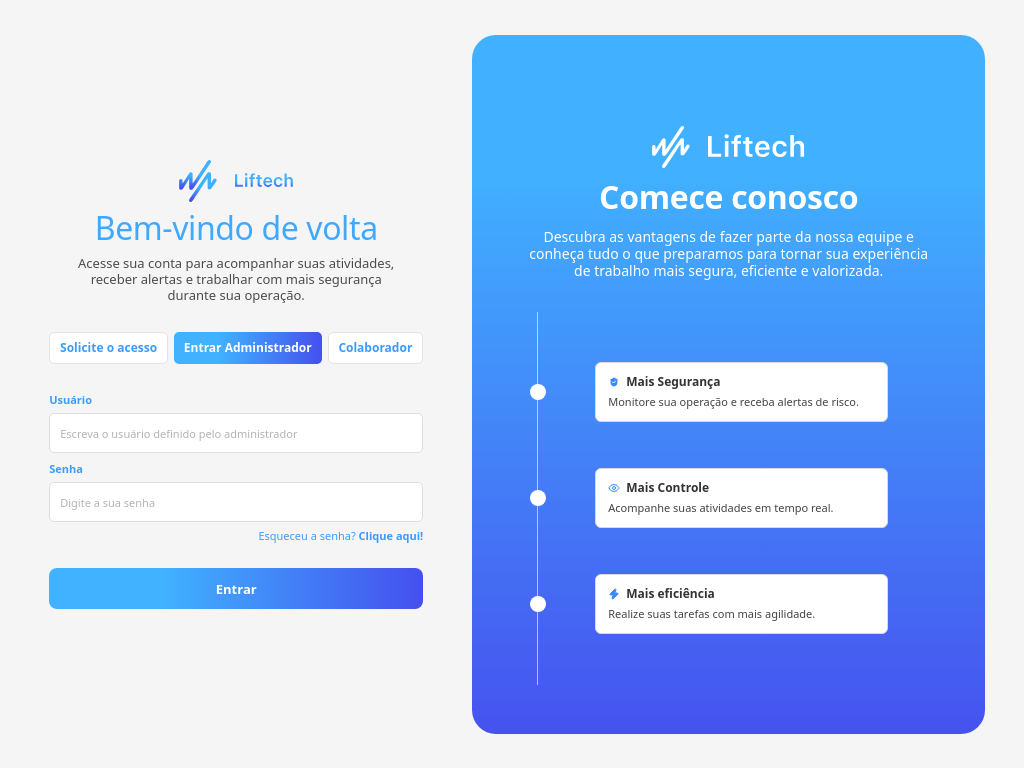
it: LoginPage › shows network error when there is no response
The width and height of the screenshot is (1024, 768).
Type "joao" into the field labelled "Usuário". click: {"x": 236, "y": 433}
box: [49,413,423,453]
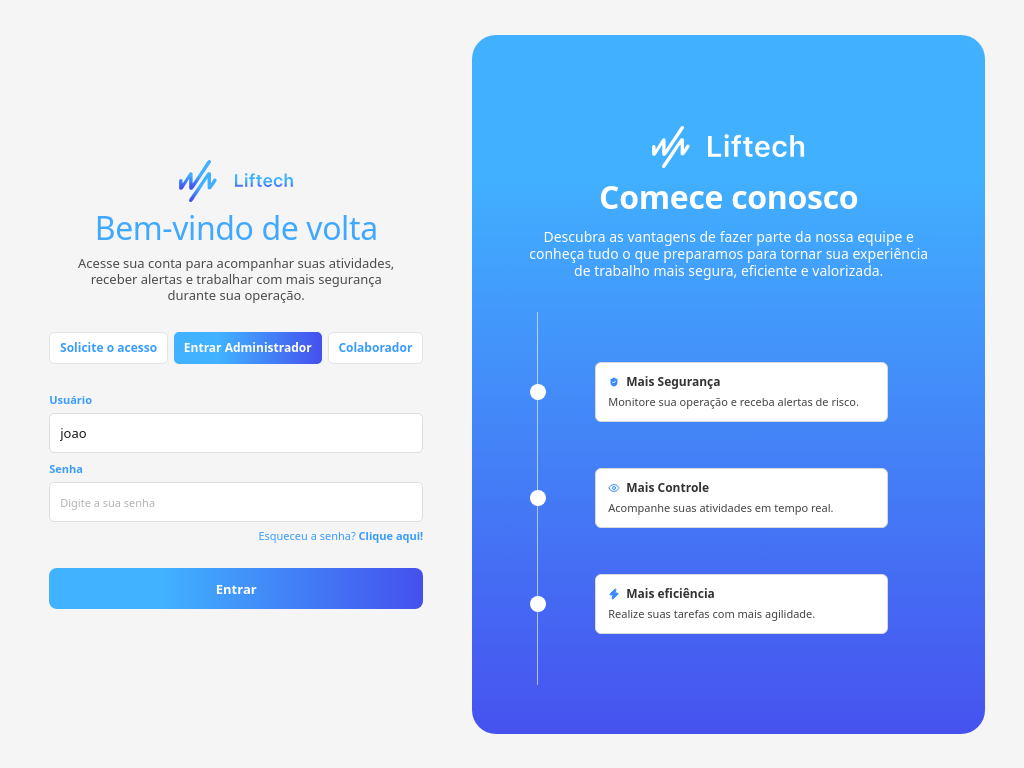
Type "minhasenha" into the password field labelled "Senha". click: {"x": 236, "y": 502}
box: [49,482,423,522]
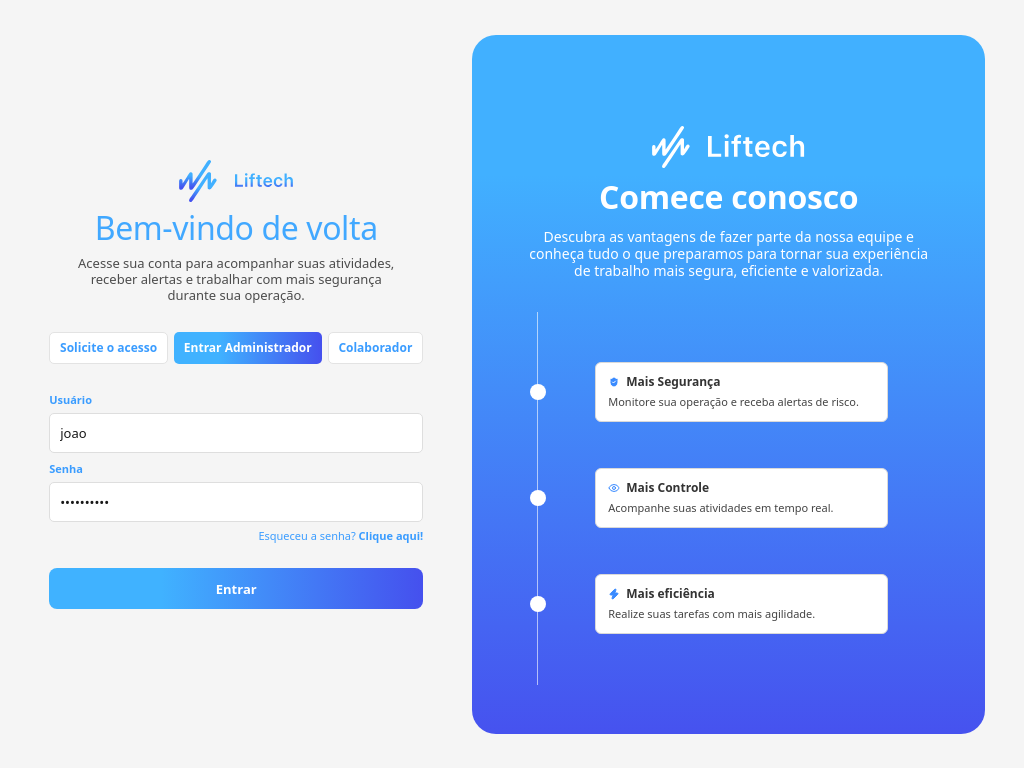
Click the button "Entrar". click: {"x": 236, "y": 589}
box: [49,568,423,610]
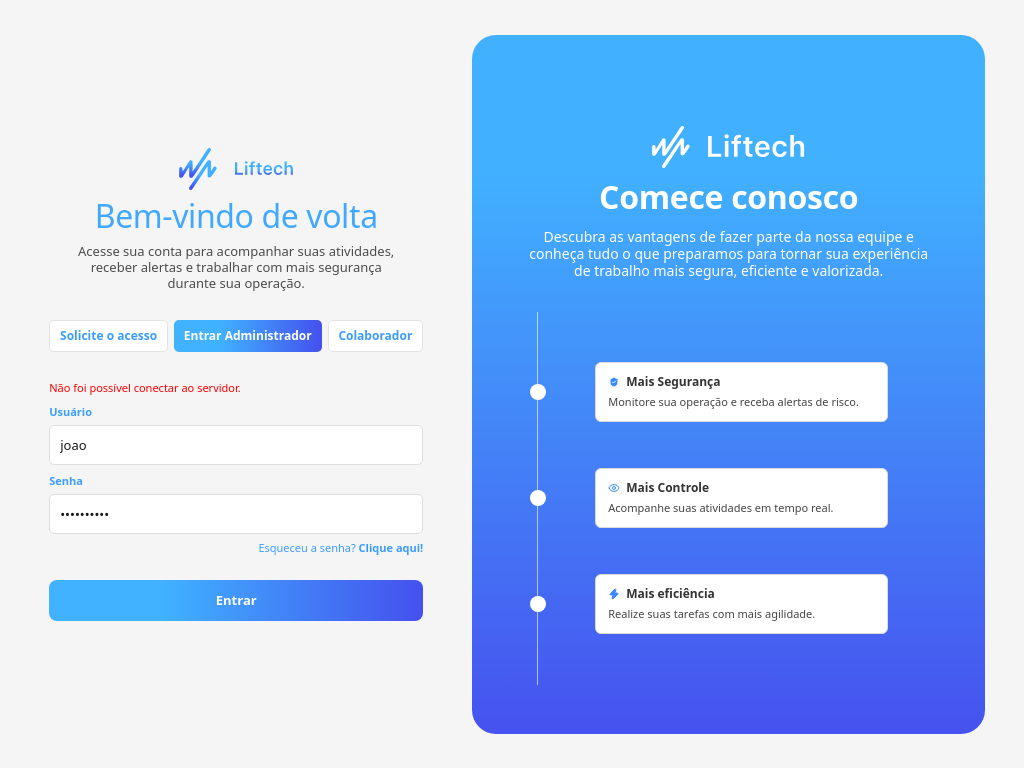
expect the message reads "Não foi possível conectar ao servidor.": met, box [49,380,241,395]
